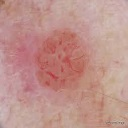Carcinoma: (33, 29, 88, 92)
